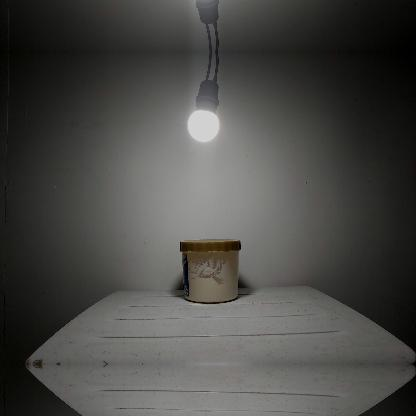Lady-s-Choice: (179, 238, 241, 302)
